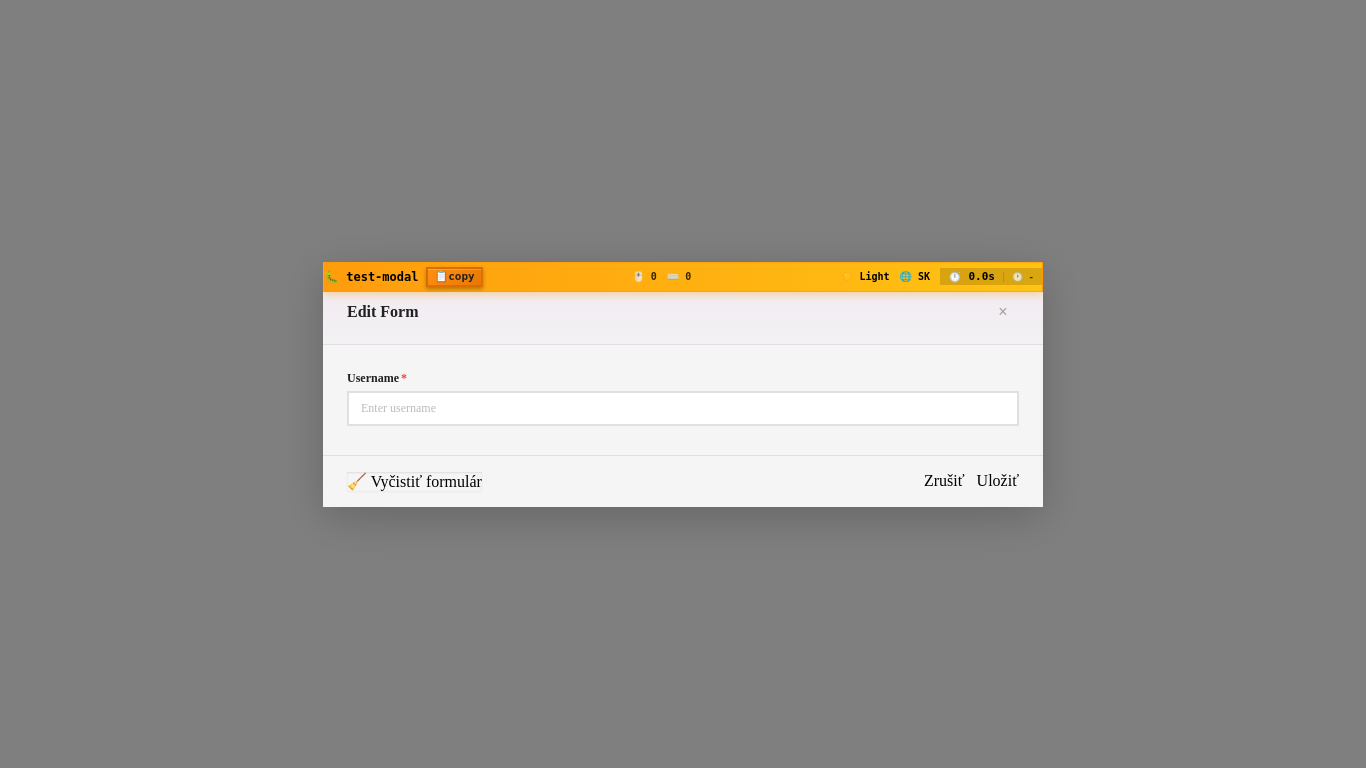
SectionEditModal › Translation Support › Clear confirmation modal displays Slovak text by default
Click the button with test id "section-edit-modal-clear".
click(414, 481)  # box x1=347 y1=472 x2=482 y2=490
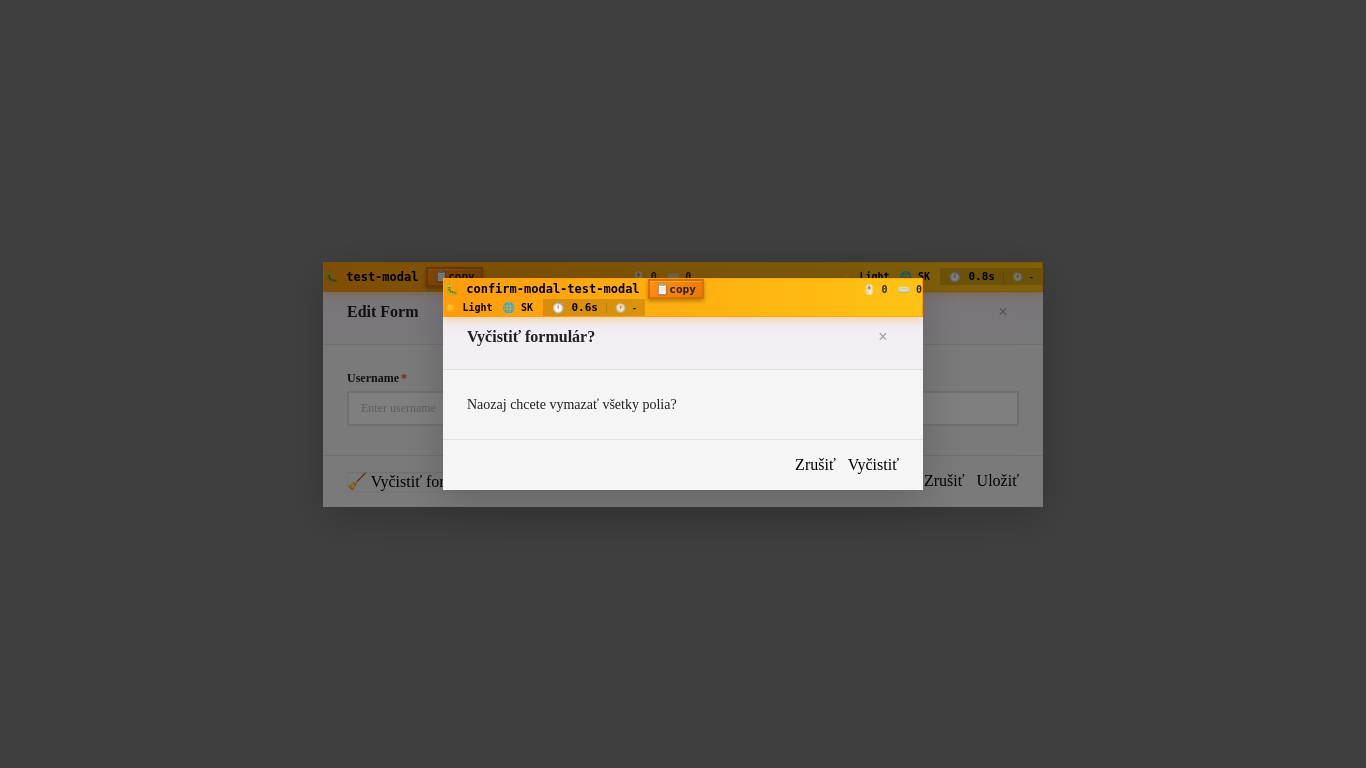
Expected: the heading "Vyčistiť formulár?" is shown, x1=467 y1=328 x2=595 y2=346
Expected: the text "Naozaj chcete vymazať všetky polia?" is shown, x1=467 y1=397 x2=677 y2=412
